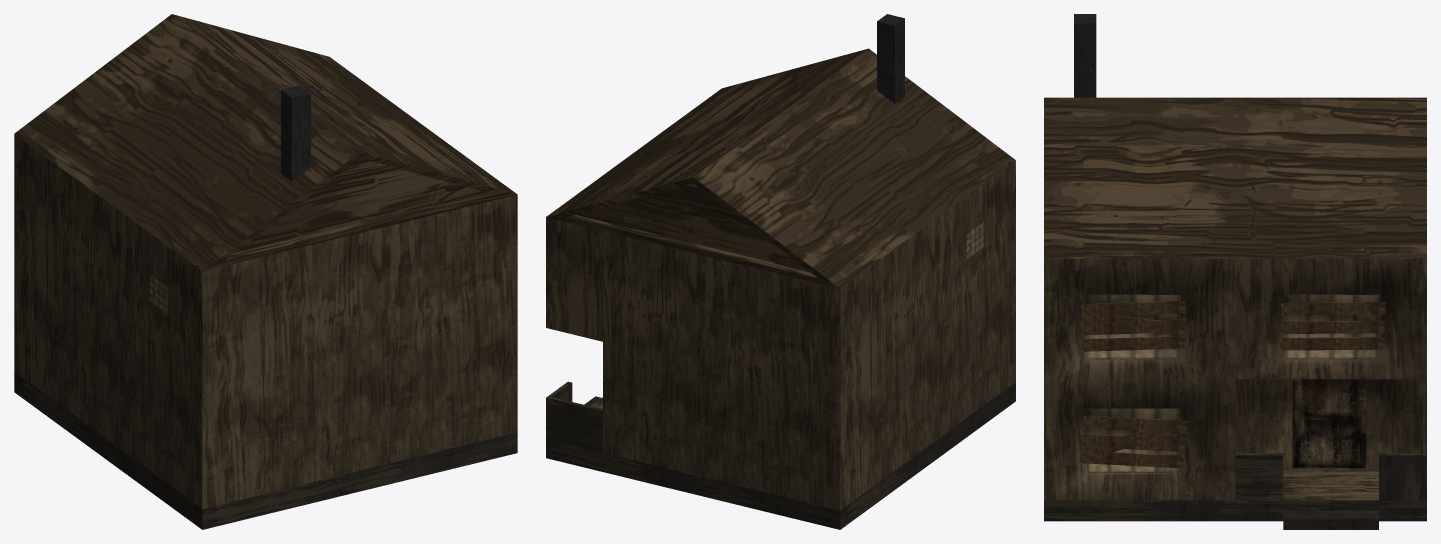
The model's file is tahtafbx.fbx.
The picture shows the model from 3 angles, left to right: view 1: azimuth 30°, elevation 25°; view 2: azimuth 150°, elevation 25°; view 3: azimuth 270°, elevation 25°; orthographic projection. The views are drawn at different scales.
Parts seen in each view (by area): view 1: Cube, çatı, zemintarafı, Cube.001; view 2: Cube, çatı, zemintarafı, Cube.001; view 3: Cube, çatı, zemintarafı, Cube.001, Cube.011, Cube.012, Cube.008, Cube.010, Cube.006, Cube.005, Cube.007, Cube.003 (+3 smaller).
Part boxes in pixels (x1,y1,x2,y2): Cube: [14, 134, 517, 509]; çatı: [14, 14, 517, 271]; zemintarafı: [14, 372, 517, 529]; Cube.001: [281, 85, 310, 181]; Cube: [546, 160, 1015, 510]; çatı: [546, 48, 1015, 288]; zemintarafı: [546, 381, 1015, 529]; Cube.001: [877, 14, 904, 103]; Cube: [1044, 258, 1426, 500]; çatı: [1044, 97, 1426, 258]; zemintarafı: [1044, 425, 1426, 529]; Cube.001: [1074, 14, 1096, 97]; Cube.011: [1280, 337, 1384, 350]; Cube.012: [1281, 302, 1385, 315]; Cube.008: [1081, 336, 1185, 351]; Cube.010: [1280, 320, 1384, 333]; Cube.006: [1081, 310, 1185, 337]; Cube.005: [1082, 419, 1184, 459]; Cube.007: [1081, 301, 1185, 316]; Cube.003: [1079, 450, 1183, 468].
Size of the model in its own units: 1792 by 2037 by 1755.
15 materials, 15 textured.
